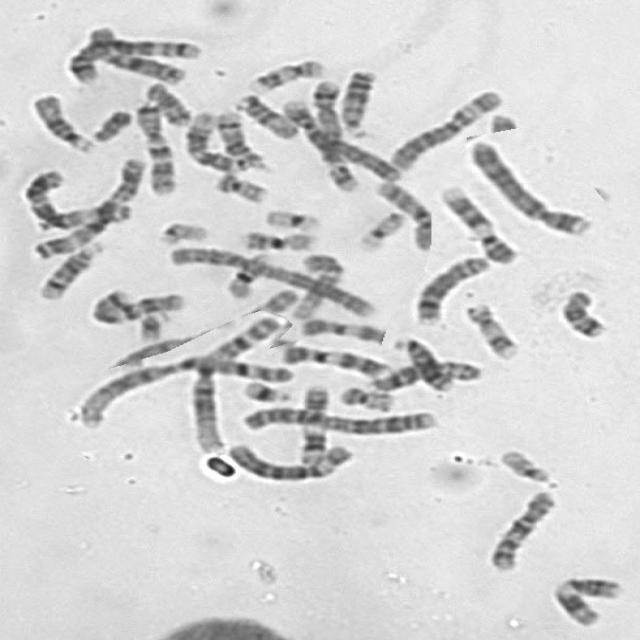A1: (68, 348, 297, 429), (181, 309, 284, 456)
A2: (159, 239, 379, 319), (235, 398, 439, 436)
A3: (21, 152, 147, 260), (15, 163, 134, 230)
B4: (460, 134, 595, 237), (272, 92, 403, 183)
B5: (59, 30, 200, 84), (302, 71, 361, 194)
C10: (481, 483, 559, 572), (368, 174, 436, 252)
C11: (544, 570, 626, 628), (290, 378, 334, 467)
C12: (177, 104, 249, 174), (285, 246, 347, 322)
C6: (382, 82, 506, 172), (219, 436, 356, 484)
C7: (126, 95, 180, 196), (82, 284, 188, 325)
C8: (405, 250, 494, 326), (358, 353, 484, 392)
C9: (433, 178, 520, 266), (272, 338, 393, 379)
D13: (386, 330, 456, 393), (332, 62, 380, 138)
D14: (30, 235, 106, 301), (206, 104, 266, 171)
D15: (22, 87, 97, 155), (228, 88, 301, 140)
E16: (233, 224, 320, 252), (223, 252, 272, 300)
E17: (458, 297, 522, 361), (240, 52, 328, 94)
E18: (551, 282, 610, 340), (137, 75, 194, 127)
F19: (349, 206, 408, 253), (256, 202, 324, 233)
F20: (206, 166, 270, 204), (331, 380, 398, 412)
G21: (233, 373, 296, 405), (129, 306, 168, 343)
G22: (492, 443, 556, 484), (151, 215, 211, 246)
X: (77, 23, 190, 85)
Y: (84, 102, 134, 144), (252, 287, 301, 317)
